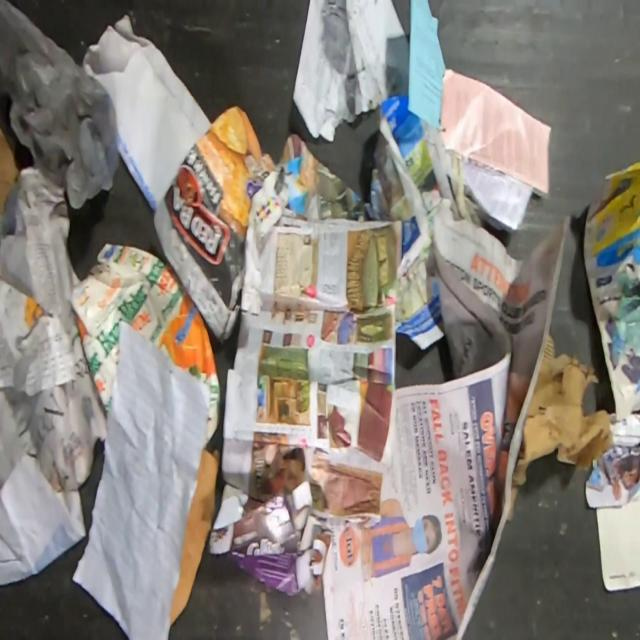cardboard: (67, 242, 220, 445), (510, 331, 613, 520), (169, 448, 218, 630)
soft_plastic: (0, 1, 120, 211)
